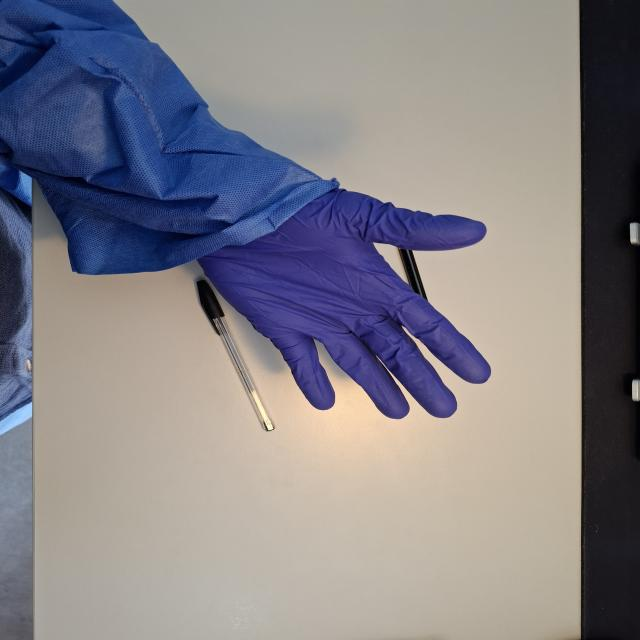glove_on: (194, 173, 494, 421)
